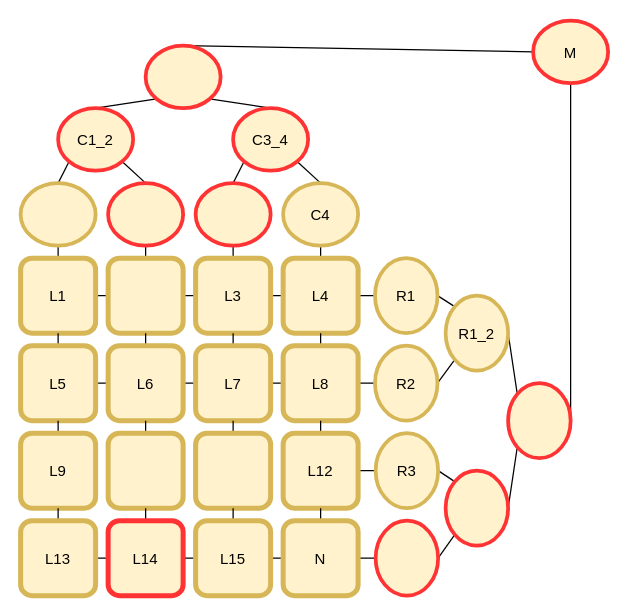
Image size: 629x616. Some labels were removed from this diagram. The shapes that lost their labels are listed below. From the top down, each one's centre as x and y in pixels, then its label:
At (182,76): "Cm".
At (57,214): "C1".
At (145,214): "C2".
At (232,214): "C3".
At (145,295): "L2".
At (539,420): "Rm".
At (145,470): "L10".
At (232,470): "L11".
At (476,507): "R3_4".
At (406,557): "R4".
